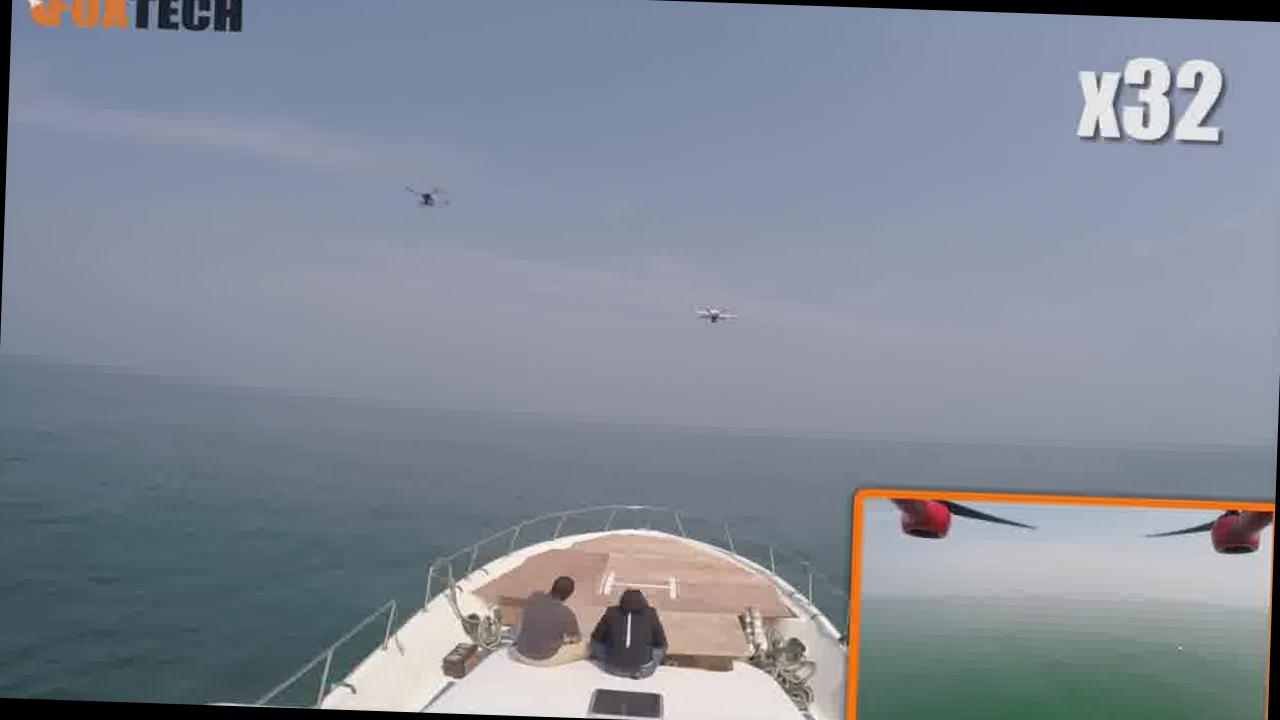drone: (390, 176, 470, 217), (682, 292, 744, 330)
